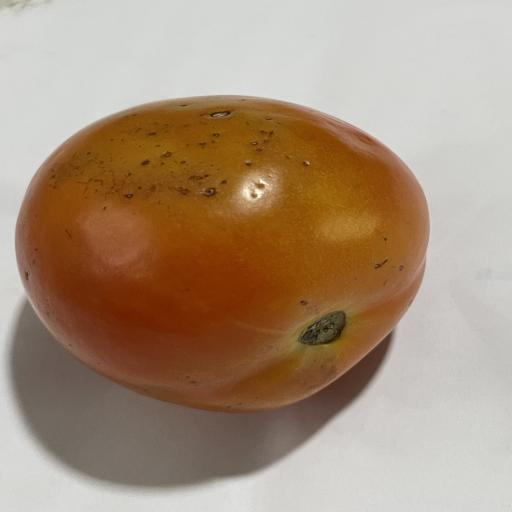overipe: (16, 96, 429, 412)
